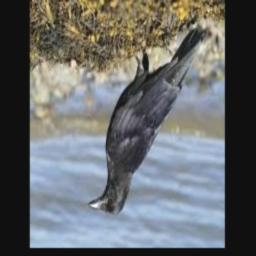Crow: (89, 27, 206, 216)
